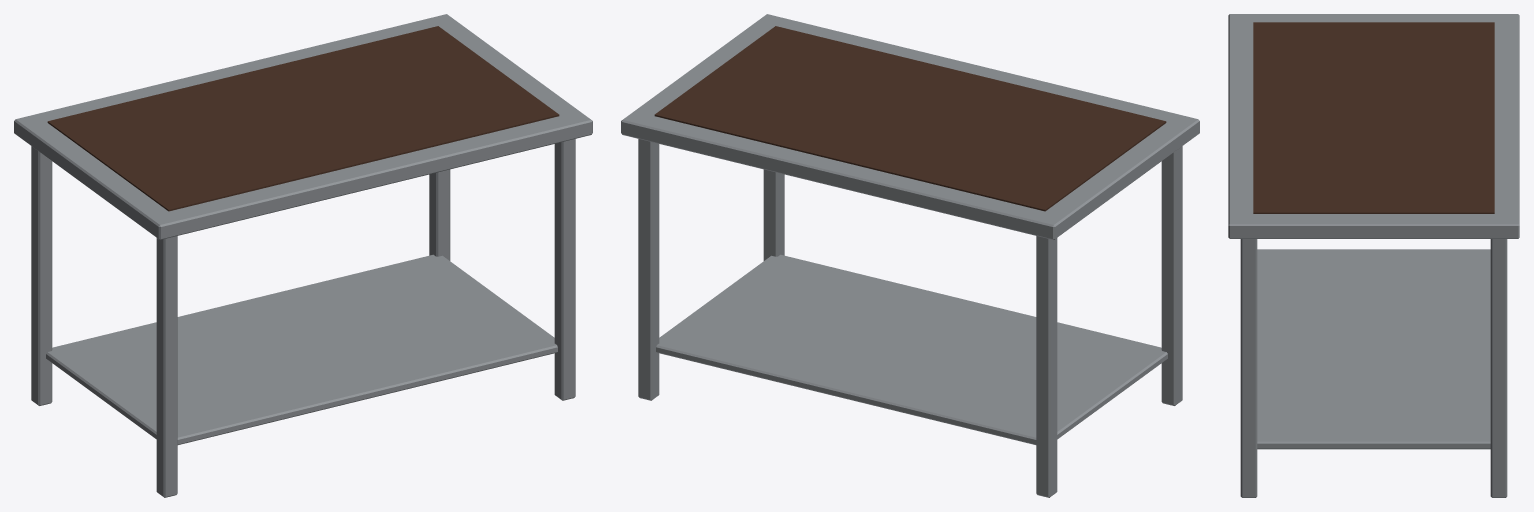
File: prop_vault_table.glb
3 views of the same model, side by side, from view 1: azimuth 30°, elevation 25°; view 2: azimuth 150°, elevation 25°; view 3: azimuth 270°, elevation 25° (orthographic).
Parts seen in each view (by area): view 1: Table; view 2: Table; view 3: Table.
Part boxes in pixels (x1=…): Table: x1=14, y1=14, x2=592, y2=497; Table: x1=621, y1=14, x2=1199, y2=497; Table: x1=1228, y1=14, x2=1519, y2=497.
Size of what is drawn, in the model's own units: 1.2 by 0.744 by 0.7.
